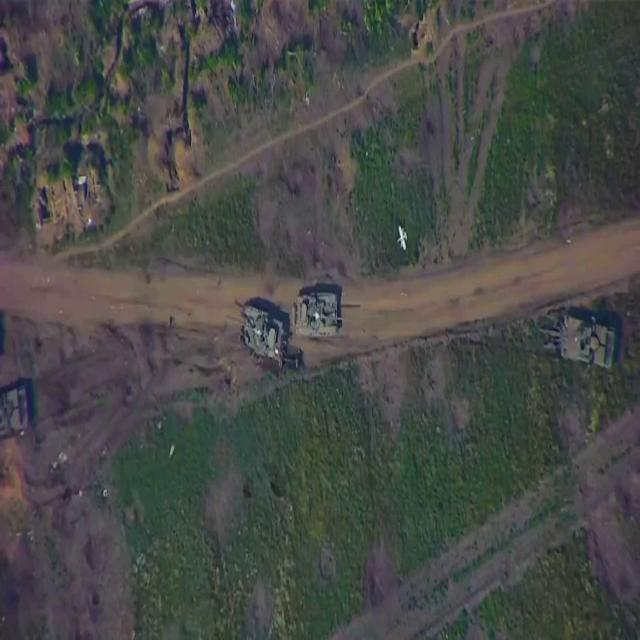MBT: (221, 302, 289, 368), (561, 315, 619, 371), (294, 286, 349, 339)
Vehicle: (1, 385, 36, 438)
